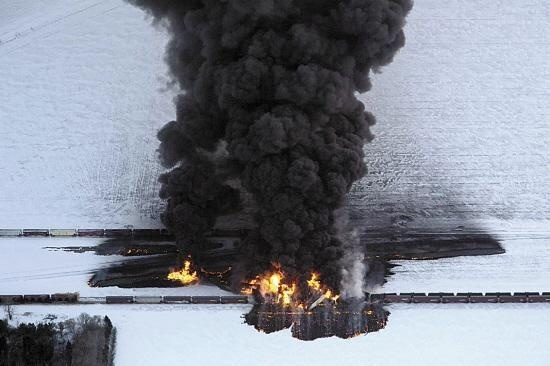fire: (244, 264, 336, 308), (164, 255, 199, 284)
